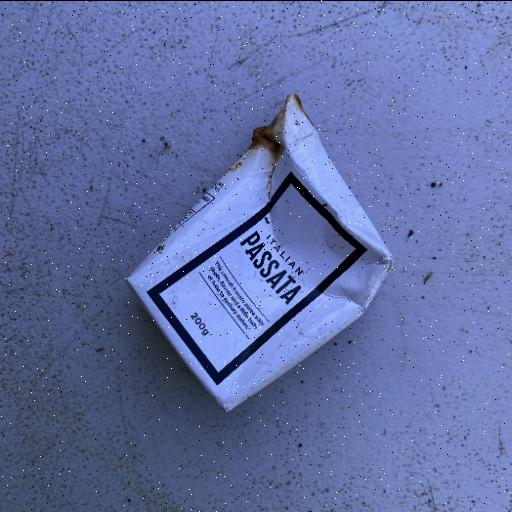Cardboard: (124, 92, 394, 414)
